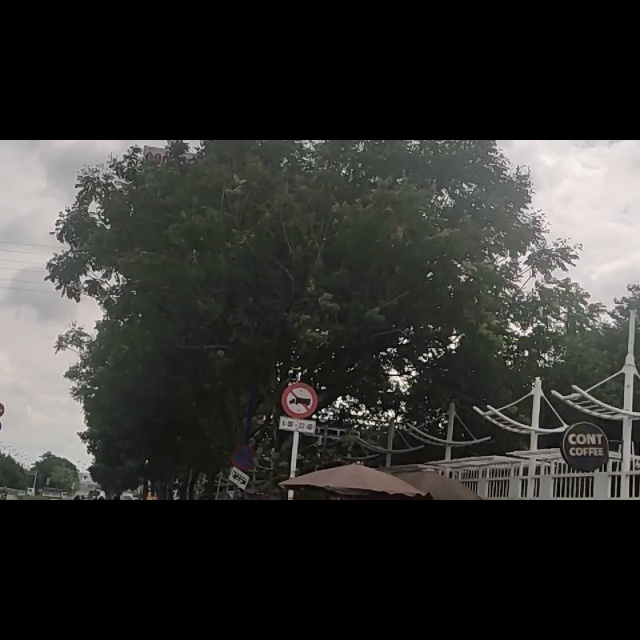bien_cam: (281, 431, 315, 521)
